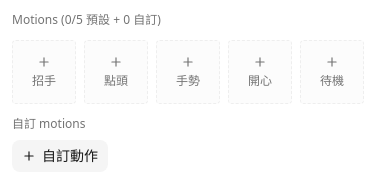
MotionRow › cancels a running task immediately and re-enables the empty cell
Click the button with test id "motion-cell-empty-preset_wave": click(44, 72) [12,40,76,104]
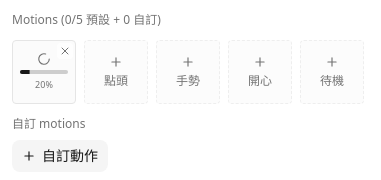
Result: the element with test id "motion-cell-running-preset_wave" is shown at [12,40,76,104]
Click the button with test id "motion-cell-cancel-preset_wave": click(65, 51) [57,43,73,59]
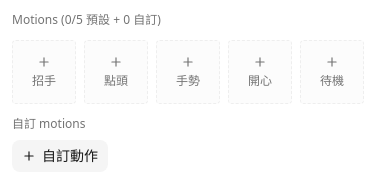
Result: the button with test id "motion-cell-empty-preset_wave" is shown at [12,40,76,104]
